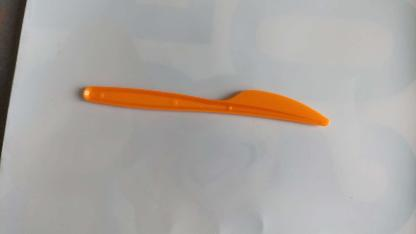Others: (82, 83, 330, 129)
